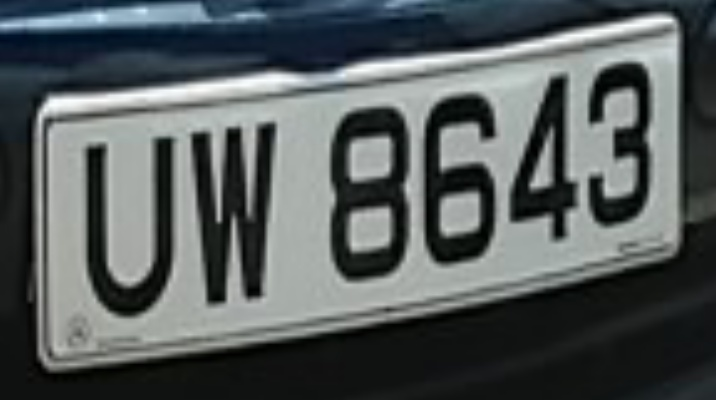3: (582, 38, 664, 249)
4: (505, 46, 588, 272)
6: (410, 70, 509, 289)
8: (317, 86, 417, 307)
U: (71, 113, 192, 337)
W: (183, 103, 288, 331)
